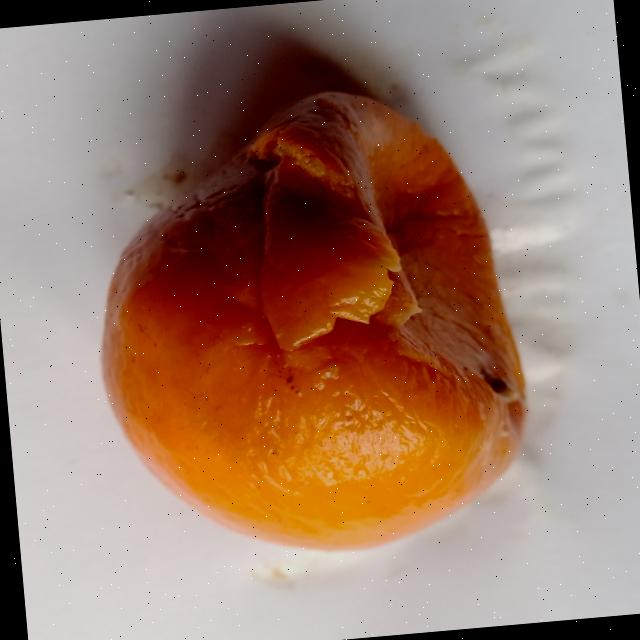Rotten: (74, 72, 539, 571)
